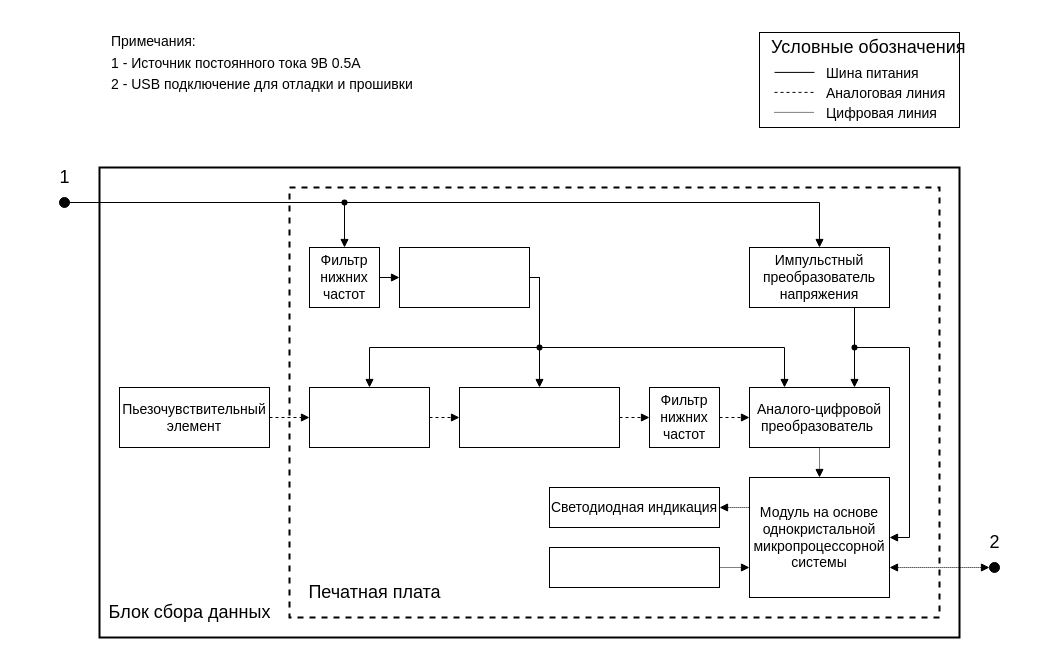
This 1059x659 diagram has some shape labels left out. Here are the shapes that lost their labels. From the top down, the centre of each, then its label:
At point (464, 277): "Малошумящий линейный регулятор напряжения".
At point (369, 417): "Малошумящий предварительный усилитель".
At point (539, 417): "Усилитель с управляемым коэффициентом усиления".
At point (634, 567): "Устройство пользовательского ввода".
